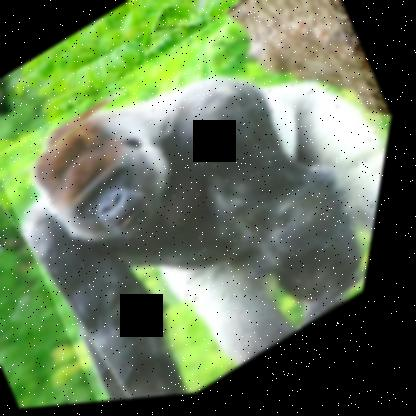Gorilla gorilla: (0, 0, 415, 414)
